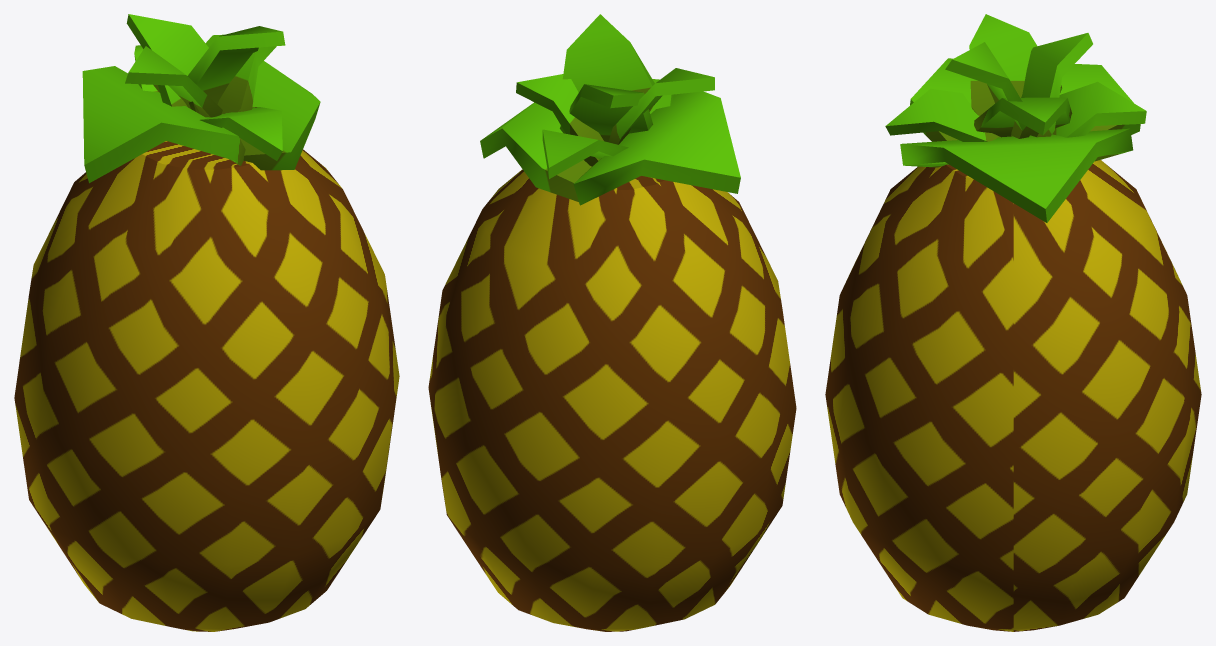
Rendered from ITMC_Pinya.FBX.
3 renders of one model, left to right at view 1: azimuth 30°, elevation 25°; view 2: azimuth 150°, elevation 25°; view 3: azimuth 270°, elevation 25°, orthographic. The views are drawn at different scales.
Visible parts, largest first — view 1: ITMC_Pinya_01, ITMC_Pinya_03, ITMC_Pinya_02, ITMC_Pinya_08, ITMC_Pinya_09, ITMC_Pinya_06, ITMC_Pinya_05, ITMC_Pinya_07; view 2: ITMC_Pinya_01, ITMC_Pinya_03, ITMC_Pinya_08, ITMC_Pinya_02, ITMC_Pinya_09, ITMC_Pinya_07, ITMC_Pinya_06, ITMC_Pinya_04; view 3: ITMC_Pinya_01, ITMC_Pinya_02, ITMC_Pinya_05, ITMC_Pinya_06, ITMC_Pinya_04, ITMC_Pinya_09, ITMC_Pinya_03, ITMC_Pinya_07, ITMC_Pinya_08.
Boxes of the visible parts, box(x1,y1,x2,y2) form: ITMC_Pinya_01: box(14, 141, 399, 631); ITMC_Pinya_03: box(82, 66, 245, 183); ITMC_Pinya_02: box(239, 61, 320, 170); ITMC_Pinya_08: box(187, 26, 285, 113); ITMC_Pinya_09: box(126, 14, 208, 107); ITMC_Pinya_06: box(125, 46, 222, 117); ITMC_Pinya_05: box(200, 107, 282, 160); ITMC_Pinya_07: box(205, 34, 276, 112); ITMC_Pinya_01: box(428, 169, 796, 631); ITMC_Pinya_03: box(573, 91, 740, 205); ITMC_Pinya_08: box(562, 14, 654, 111); ITMC_Pinya_02: box(480, 102, 591, 201); ITMC_Pinya_09: box(559, 84, 652, 141); ITMC_Pinya_07: box(516, 74, 603, 166); ITMC_Pinya_06: box(608, 68, 714, 144); ITMC_Pinya_04: box(542, 129, 628, 178); ITMC_Pinya_01: box(825, 160, 1201, 631); ITMC_Pinya_02: box(900, 128, 1133, 222); ITMC_Pinya_05: box(885, 88, 1000, 141); ITMC_Pinya_06: box(969, 14, 1062, 115); ITMC_Pinya_04: box(1052, 81, 1146, 137); ITMC_Pinya_09: box(1021, 33, 1092, 137); ITMC_Pinya_03: box(910, 58, 1140, 141); ITMC_Pinya_07: box(974, 97, 1072, 137); ITMC_Pinya_08: box(945, 42, 1032, 138).
Bounding box in the file's own units: 0.5427 × 0.9092 × 0.5427.
